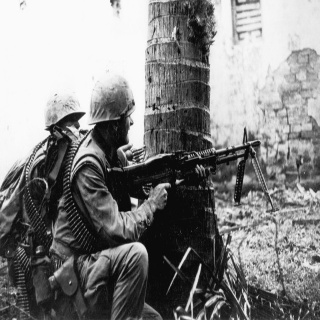rifle: (105, 127, 279, 214)
